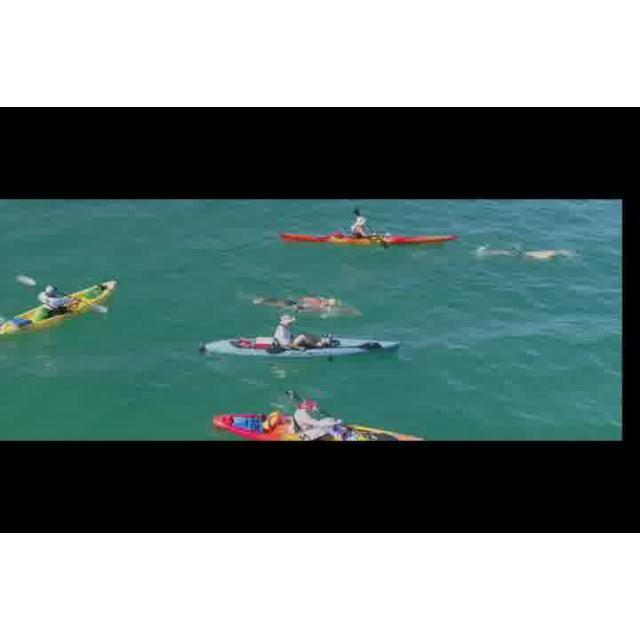human: (256, 294, 360, 318)
